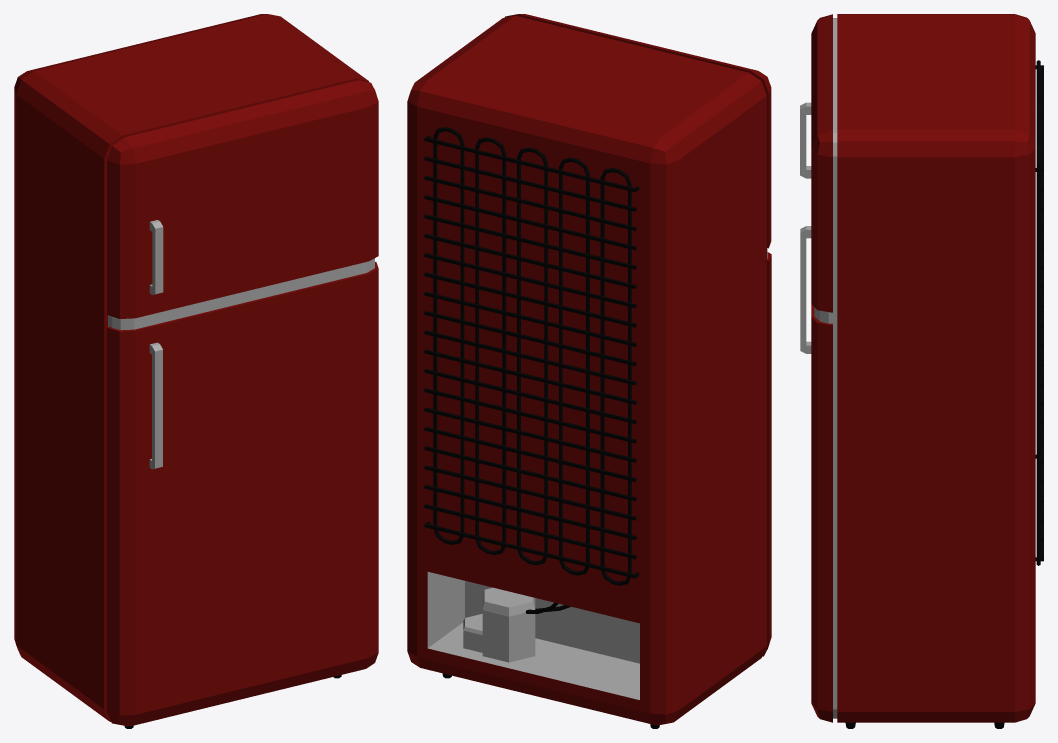
The model's file is refrig.obj.
3 views of the same model, side by side, from view 1: azimuth 30°, elevation 25°; view 2: azimuth 150°, elevation 25°; view 3: azimuth 270°, elevation 25° (orthographic).
Parts seen in each view (by area): view 1: Cube.093_Cube.121, Cylinder.056_Cylinder.074, Cube.094_Cube.122; view 2: Cylinder.056_Cylinder.074, Cube.094_Cube.122, Cube.093_Cube.121; view 3: Cylinder.056_Cylinder.074, Cube.093_Cube.121, Cube.094_Cube.122.
Boxes of the visible parts, left/top/right/bottom form: Cube.093_Cube.121: left=106, top=262, right=378, bottom=725; Cylinder.056_Cylinder.074: left=14, top=14, right=374, bottom=728; Cube.094_Cube.122: left=107, top=80, right=378, bottom=318; Cylinder.056_Cylinder.074: left=407, top=15, right=767, bottom=728; Cube.094_Cube.122: left=504, top=14, right=771, bottom=248; Cube.093_Cube.121: left=762, top=252, right=771, bottom=656; Cylinder.056_Cylinder.074: left=814, top=14, right=1043, bottom=728; Cube.093_Cube.121: left=800, top=226, right=832, bottom=722; Cube.094_Cube.122: left=800, top=14, right=832, bottom=312.
Bounding box in the file's own units: 0.15 × 0.3187 × 0.1166.
